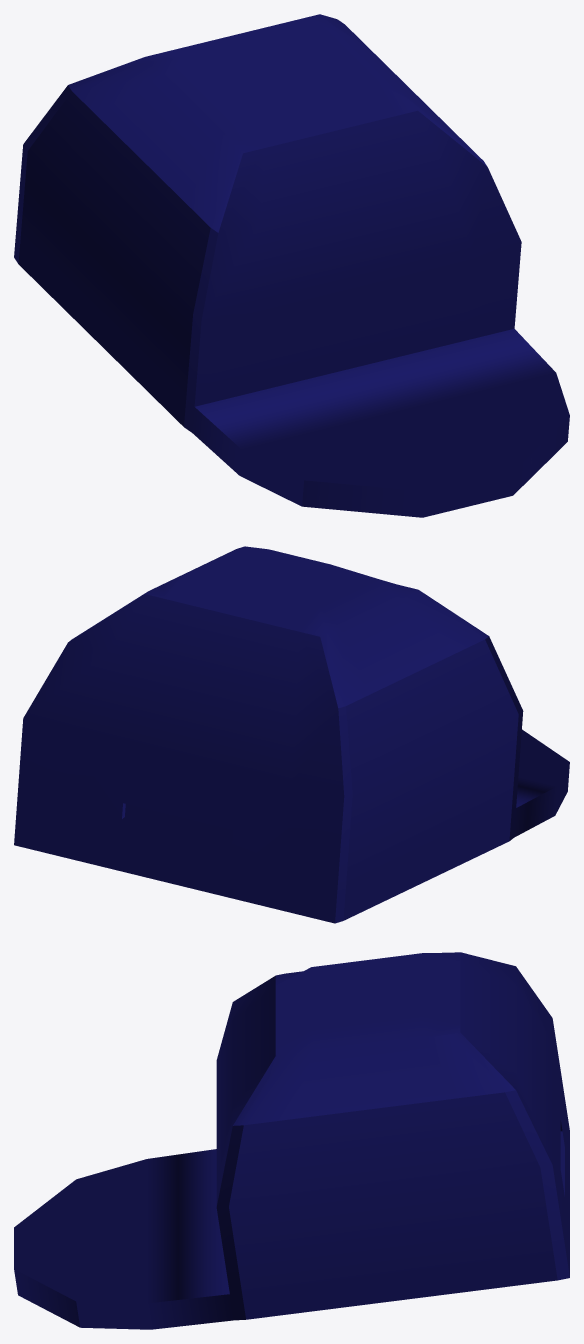
File: cap.fbx
3 renders of one model, top to bottom at view 1: azimuth 30°, elevation 25°; view 2: azimuth 150°, elevation 25°; view 3: azimuth 270°, elevation 25°, orthographic. The views are drawn at different scales.
Parts seen in each view (by area): view 1: CAP:Box003; view 2: CAP:Box003; view 3: CAP:Box003.
Part boxes in pixels (x1,y1,x2,y2): CAP:Box003: (14,14,569,517); CAP:Box003: (14,546,569,923); CAP:Box003: (14,952,569,1329).
Size of the model in its own units: 1.44 by 1.35 by 2.27.
